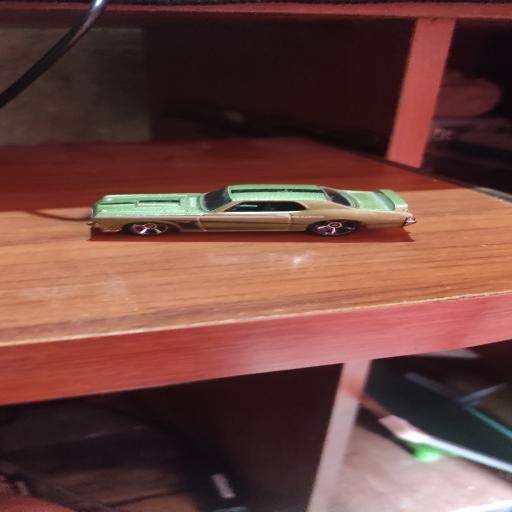Carrito: (90, 184, 416, 237)
